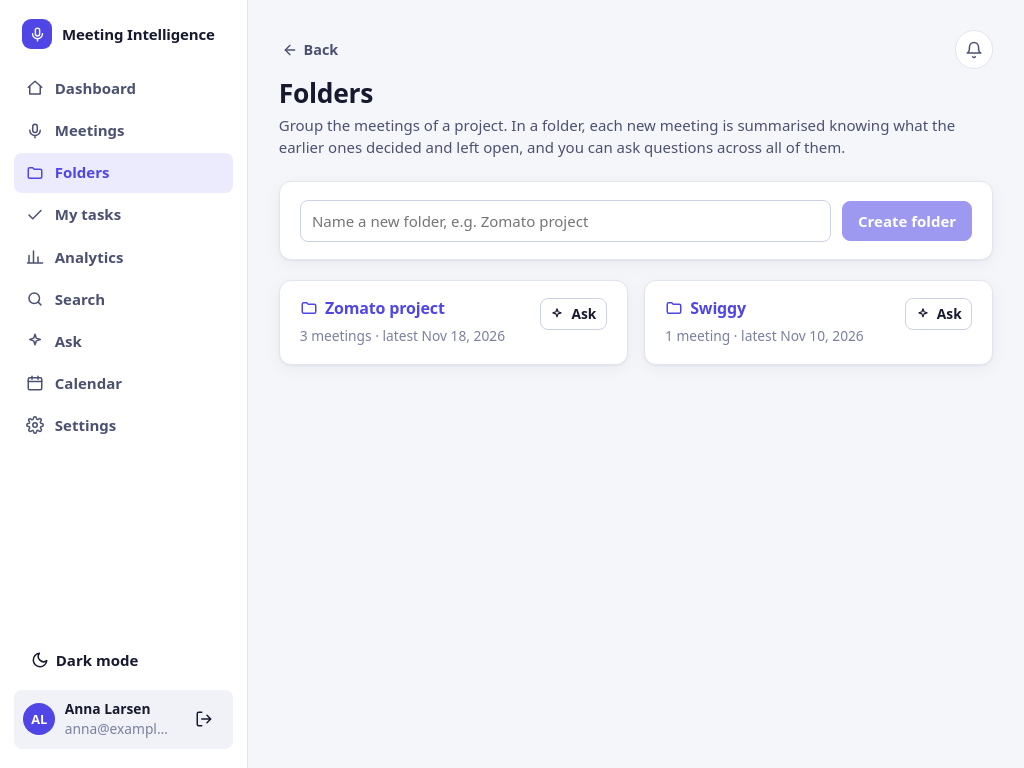
Test: the Folders page › shows why a name was refused, such as one that already exists
Type "Swiggy" into the field named "New folder name".
click(565, 221); type("Swiggy")  # box [300,200,831,242]
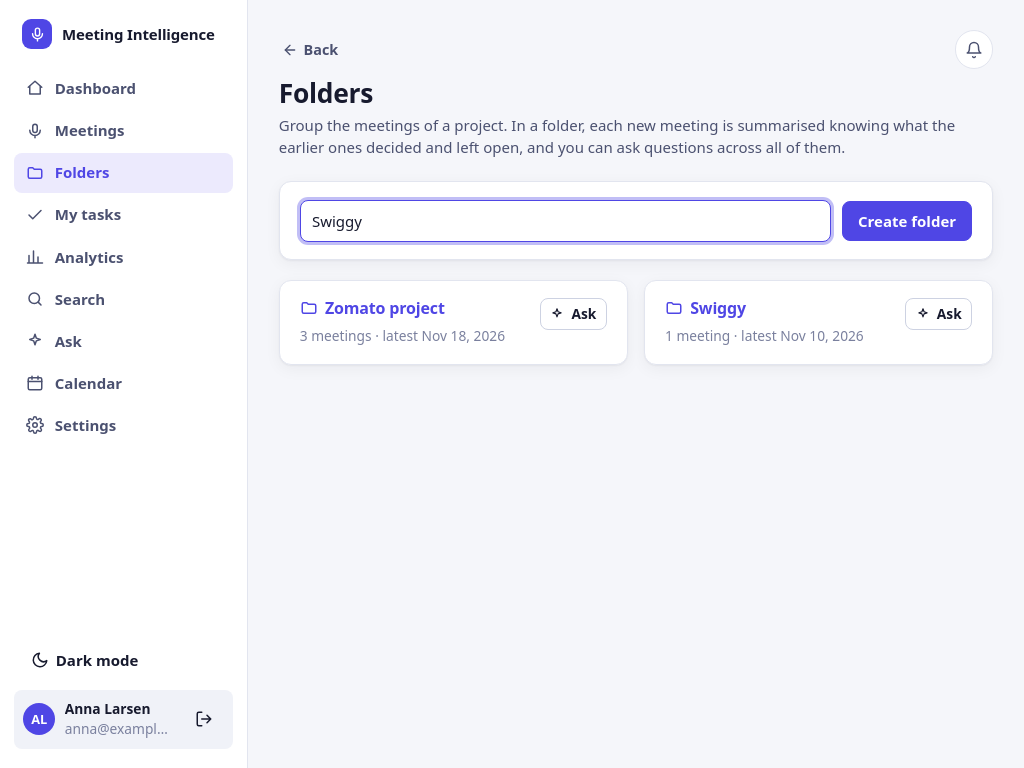
Click the button "Create folder".
click(907, 221)  # box [842,201,972,241]
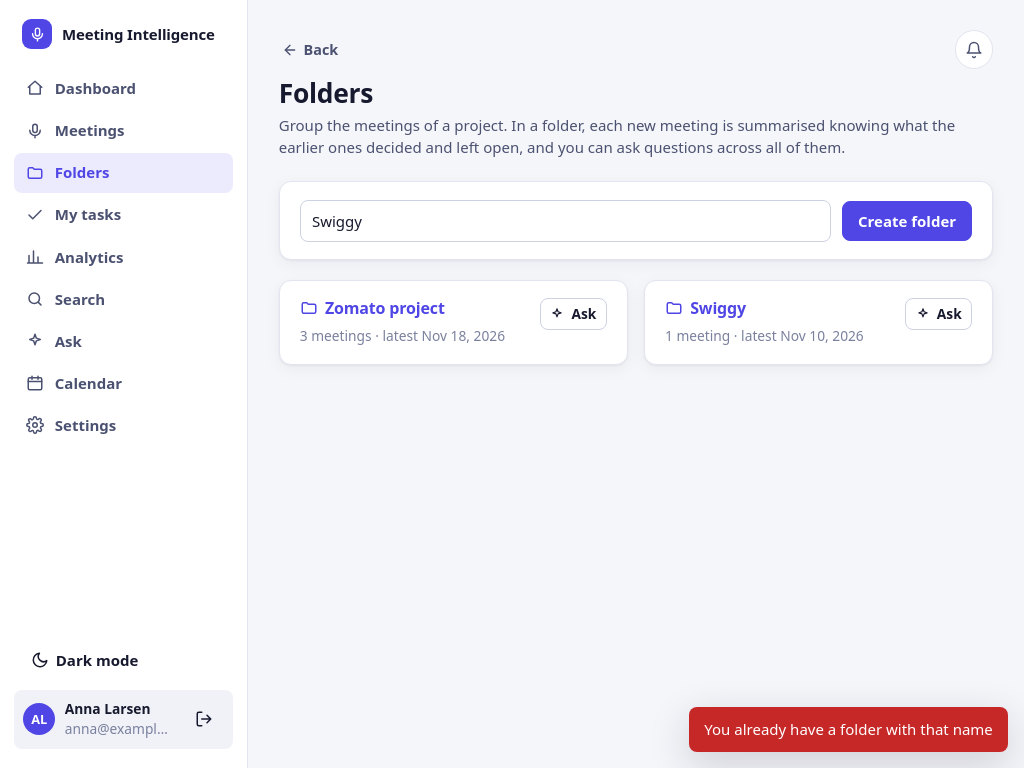
Check: the text "You already have a folder with that name" is shown, box [689,707,1008,752]
